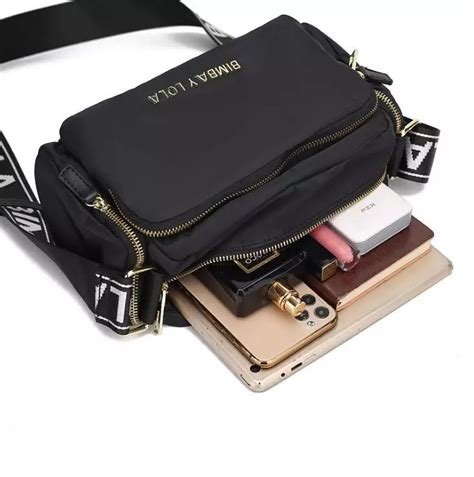nylon: (35, 16, 402, 330)
